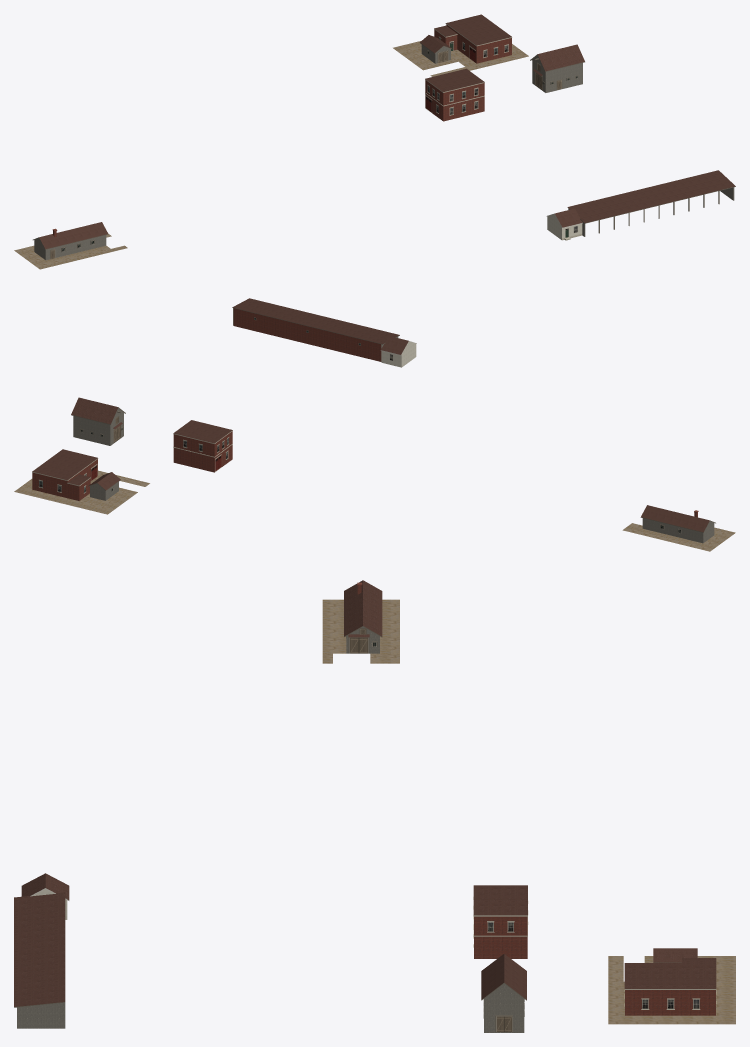
Rendered from back-lots.glb.
The picture shows the model from 3 angles, top to bottom: view 1: azimuth 30°, elevation 25°; view 2: azimuth 150°, elevation 25°; view 3: azimuth 270°, elevation 25°; orthographic projection. The views are drawn at different scales.
Parts seen in each view (by area): view 1: BackLots; view 2: BackLots; view 3: BackLots.
Boxes of the visible parts, box(x1,y1,x2,y2) form: BackLots: box(14, 14, 735, 269); BackLots: box(14, 298, 735, 551); BackLots: box(14, 580, 735, 1032).
Size of the model in its own units: 153 by 8.5 by 107.
Materials: 6 (6 with a texture image).
